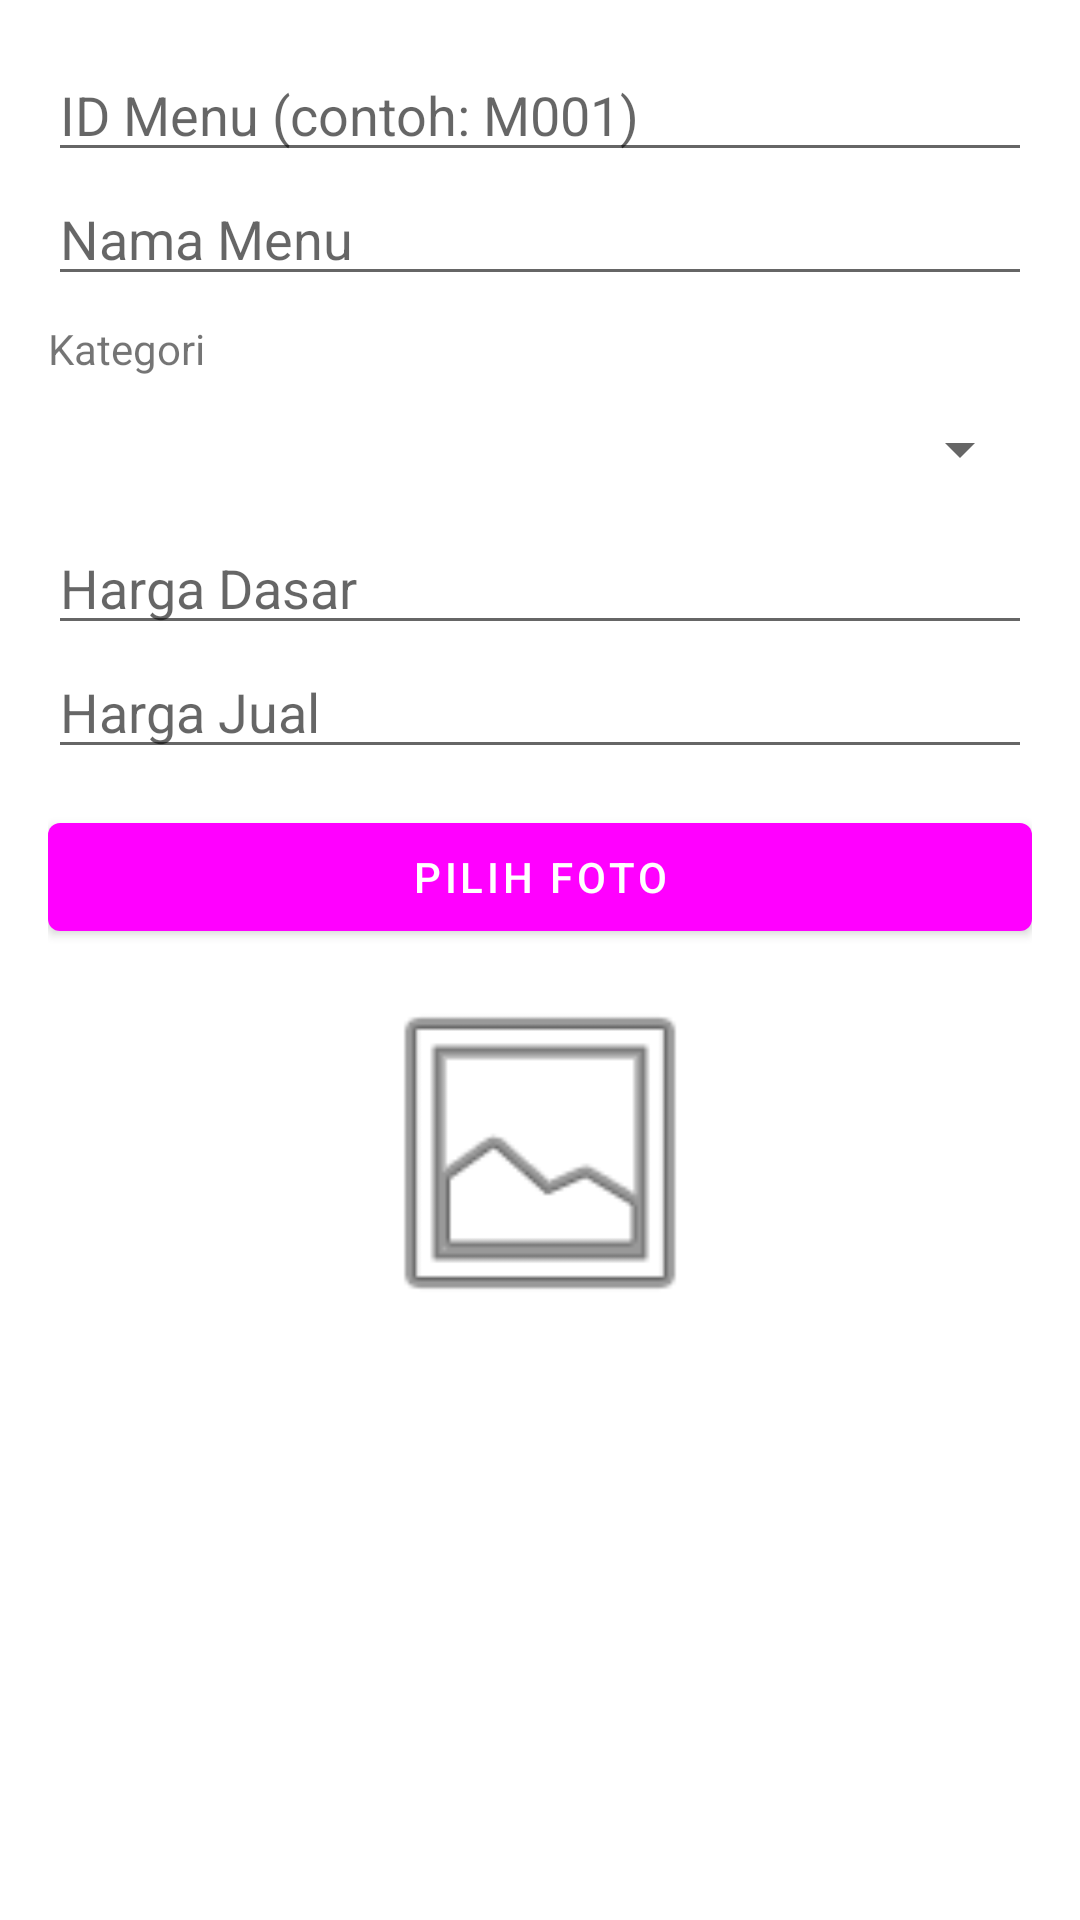

Screen size 1080w x 1920h. Icon name, then its center in pixels as [x,y]:
gallery: [540,1153]
